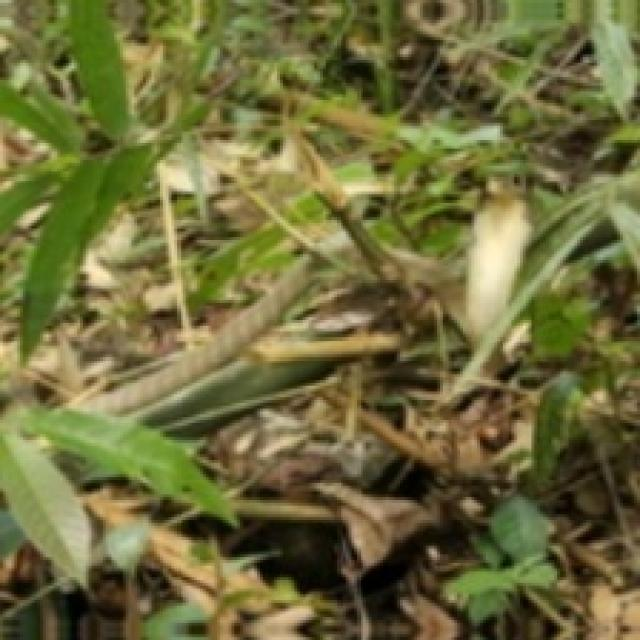king cobra: (80, 255, 318, 412), (365, 195, 530, 336), (319, 231, 352, 256)
